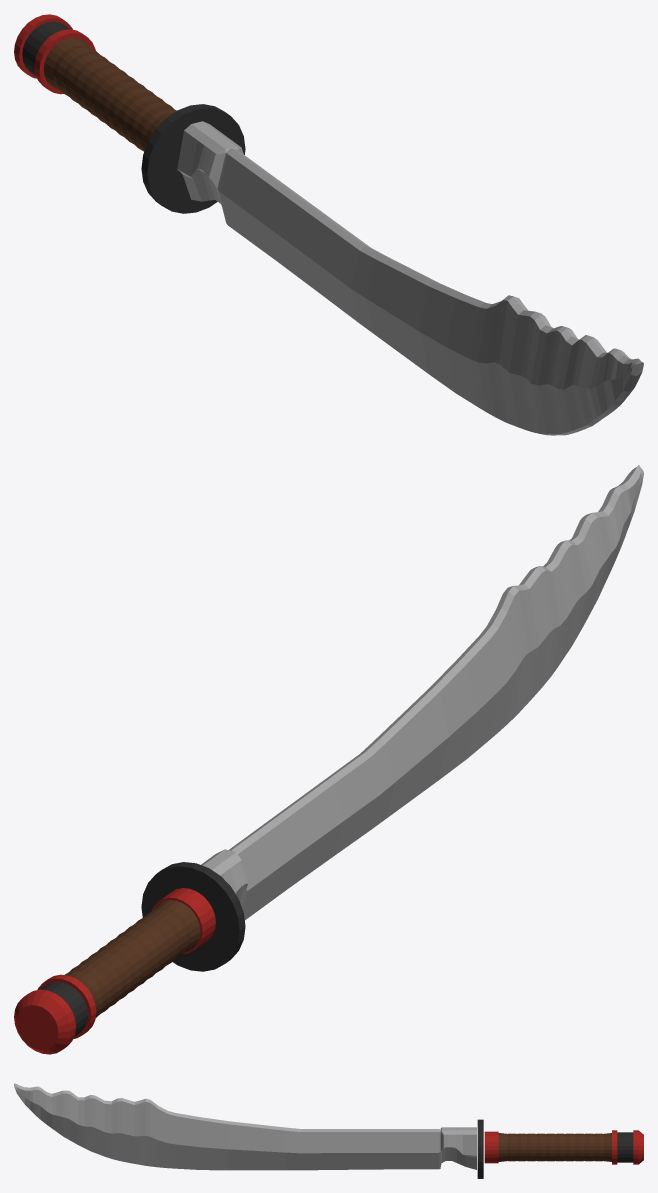
File: DaoSword.fbx
3 views of the same model, one above another, from view 1: azimuth 30°, elevation 25°; view 2: azimuth 150°, elevation 25°; view 3: azimuth 270°, elevation 25° (orthographic). The views are drawn at different scales.
Parts seen in each view (by area): view 1: Cylinder.005; view 2: Cylinder.005; view 3: Cylinder.005.
Part boxes in pixels (x1,y1,x2,y2): Cylinder.005: (14,14,643,435); Cylinder.005: (14,465,643,1054); Cylinder.005: (14,1083,643,1178).
Size of the model in its own units: 76.77 by 133 by 815.
